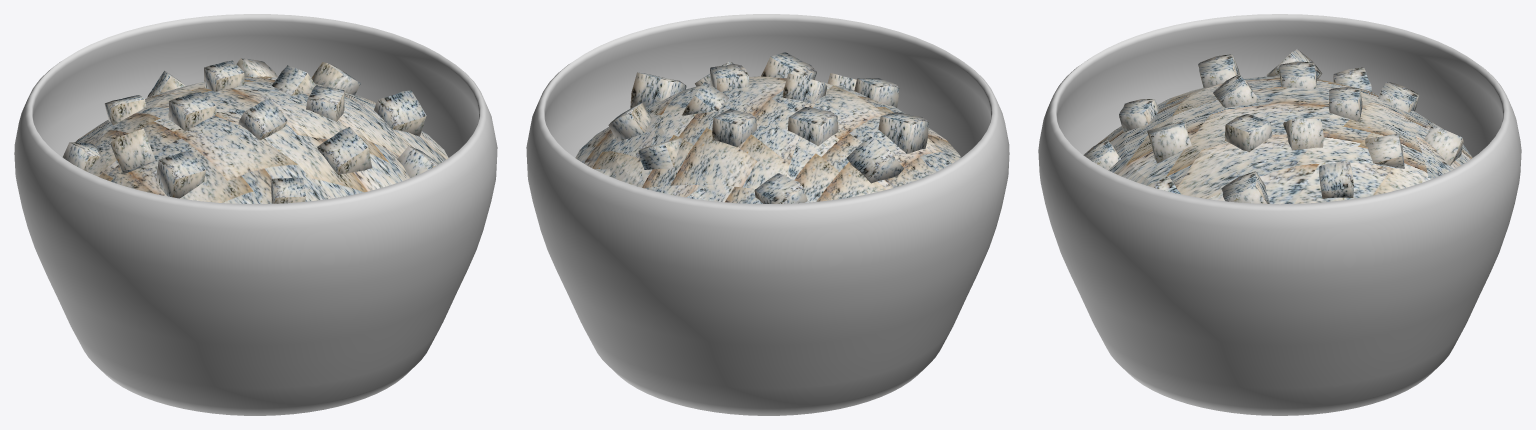
The model's file is blue_cheese_bowl.fbx.
3 renders of one model, left to right at view 1: azimuth 30°, elevation 25°; view 2: azimuth 150°, elevation 25°; view 3: azimuth 270°, elevation 25°, orthographic.
Visible parts, largest first — view 1: Sphere, Sphere.001, blue_cheese.006, blue_cheese.002, blue_cheese.010, blue_cheese.004, blue_cheese.007, blue_cheese.013, blue_cheese, blue_cheese.015, blue_cheese.008, blue_cheese.003 (+6 smaller); view 2: Sphere, Sphere.001, blue_cheese.004, blue_cheese.006, blue_cheese.007, blue_cheese.015, blue_cheese.010, blue_cheese.005, blue_cheese.008, blue_cheese.002, blue_cheese.009, blue_cheese.013 (+3 smaller); view 3: Sphere, Sphere.001, blue_cheese, blue_cheese.002, blue_cheese.008, blue_cheese.010, blue_cheese.014, blue_cheese.009, blue_cheese.015, blue_cheese.006, blue_cheese.013, blue_cheese.003 (+5 smaller).
Boxes of the visible parts, x1,y1,x2,y2 form: Sphere: [14, 14, 497, 415]; Sphere.001: [76, 76, 448, 203]; blue_cheese.006: [156, 150, 205, 198]; blue_cheese.002: [317, 127, 372, 175]; blue_cheese.010: [374, 90, 426, 136]; blue_cheese.004: [110, 128, 155, 173]; blue_cheese.007: [168, 92, 216, 131]; blue_cheese.013: [238, 98, 287, 140]; blue_cheese: [306, 85, 344, 121]; blue_cheese.015: [204, 60, 244, 91]; blue_cheese.008: [311, 62, 360, 94]; blue_cheese.003: [271, 177, 306, 203]; Sphere: [526, 14, 1009, 415]; Sphere.001: [575, 76, 960, 203]; blue_cheese.004: [846, 136, 903, 183]; blue_cheese.006: [878, 112, 928, 153]; blue_cheese.007: [787, 107, 838, 145]; blue_cheese.015: [712, 109, 756, 147]; blue_cheese.010: [630, 72, 686, 108]; blue_cheese.005: [754, 173, 807, 203]; blue_cheese.008: [608, 103, 651, 141]; blue_cheese.002: [761, 52, 816, 79]; blue_cheese.009: [638, 138, 682, 169]; blue_cheese.013: [782, 73, 826, 103]; Sphere: [1038, 14, 1521, 415]; Sphere.001: [1097, 76, 1472, 204]; blue_cheese: [1225, 114, 1272, 152]; blue_cheese.002: [1147, 121, 1191, 163]; blue_cheese.008: [1318, 161, 1353, 198]; blue_cheese.010: [1221, 171, 1269, 203]; blue_cheese.014: [1283, 119, 1323, 150]; blue_cheese.009: [1365, 133, 1404, 168]; blue_cheese.015: [1329, 87, 1362, 121]; blue_cheese.006: [1198, 54, 1239, 87]; blue_cheese.013: [1213, 74, 1259, 107]; blue_cheese.003: [1119, 99, 1159, 132].
Bounding box in the file's own units: 39.86 × 24.08 × 39.86.
Materials: 20 (19 with a texture image).
